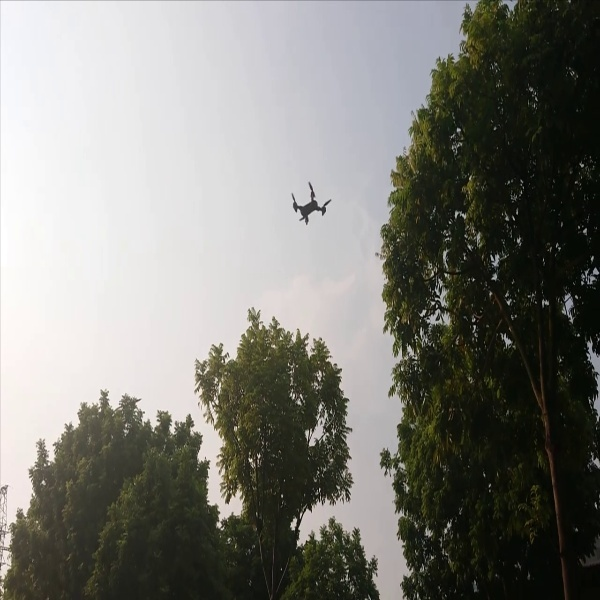drone: (280, 180, 340, 230)
